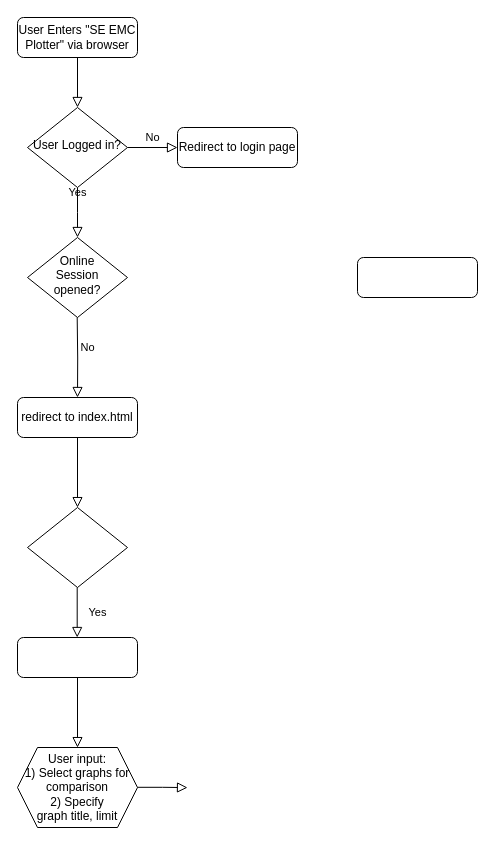
The diagram is 495 pixels wide and 845 high, and some of its shapes have lost their labels. Each missing label, with the centre of its shape:
Display user session history (graphs): the point at 77,657
Index.html: the point at 417,277
User has sessions history: the point at 77,547
